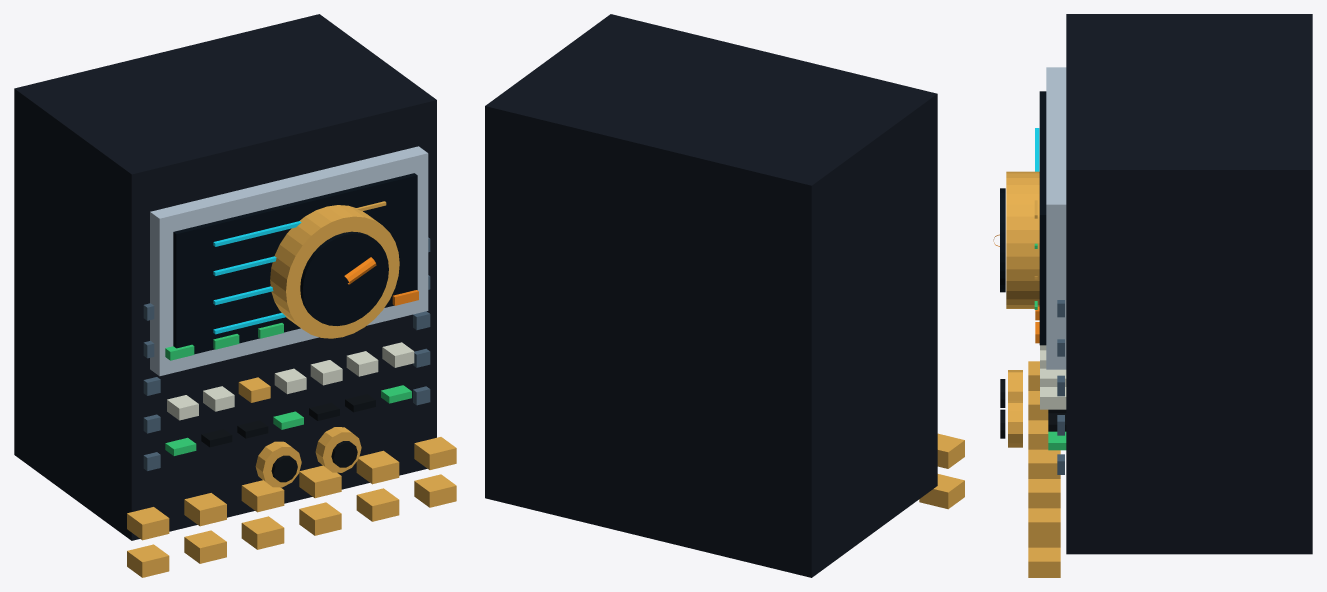
Rendered from 43_L92_DrillDepthEncoder.fbx.
3 views of the same model, side by side, from view 1: azimuth 30°, elevation 25°; view 2: azimuth 150°, elevation 25°; view 3: azimuth 270°, elevation 25° (orthographic). The views are drawn at different scales.
Parts seen in each view (by area): view 1: L92_DrillDepthEncoder, L92_DrillDepthEncoder_Part_0011, L92_DrillDepthEncoder_Part_0013, L92_DrillDepthEncoder_Part_0009, L92_DrillDepthEncoder_Part_0010, L92_DrillDepthEncoder_Part_0012; view 2: L92_DrillDepthEncoder; view 3: L92_DrillDepthEncoder, L92_DrillDepthEncoder_Part_0013, L92_DrillDepthEncoder_Part_0011.
Boxes of the visible parts, bbox=[...] form: L92_DrillDepthEncoder: bbox=[14, 14, 456, 577]; L92_DrillDepthEncoder_Part_0011: bbox=[255, 441, 301, 487]; L92_DrillDepthEncoder_Part_0013: bbox=[315, 427, 361, 472]; L92_DrillDepthEncoder_Part_0009: bbox=[165, 323, 283, 360]; L92_DrillDepthEncoder_Part_0010: bbox=[344, 257, 418, 305]; L92_DrillDepthEncoder_Part_0012: bbox=[271, 455, 297, 482]; L92_DrillDepthEncoder: bbox=[485, 14, 964, 577]; L92_DrillDepthEncoder: bbox=[1000, 14, 1312, 577]; L92_DrillDepthEncoder_Part_0013: bbox=[1008, 400, 1022, 447]; L92_DrillDepthEncoder_Part_0011: bbox=[1008, 370, 1022, 400].
Bounding box in the file's own units: 105 × 124 × 88.1.
